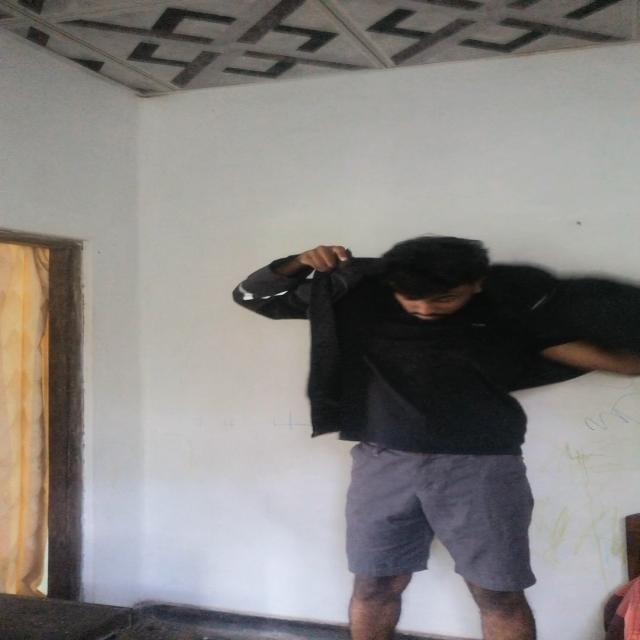Jacket_Wearer: (284, 250, 640, 452)
